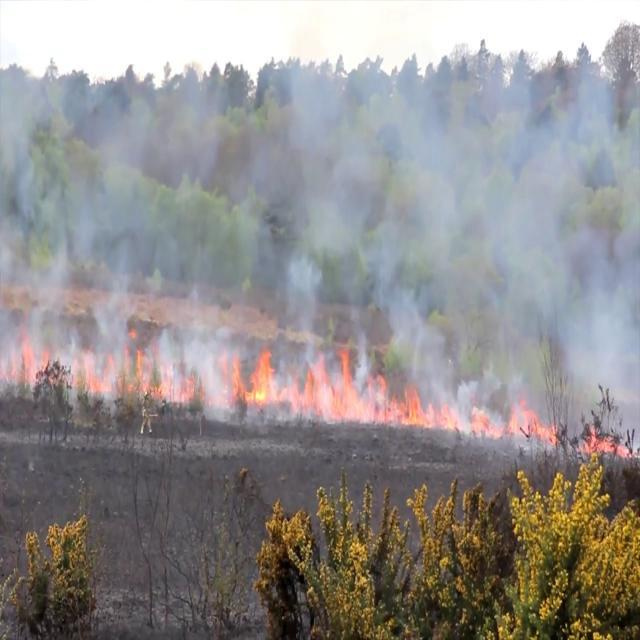Fire: (224, 348, 461, 431), (1, 310, 196, 404), (469, 396, 558, 446), (574, 423, 634, 459)
Smoke: (0, 68, 640, 464)
